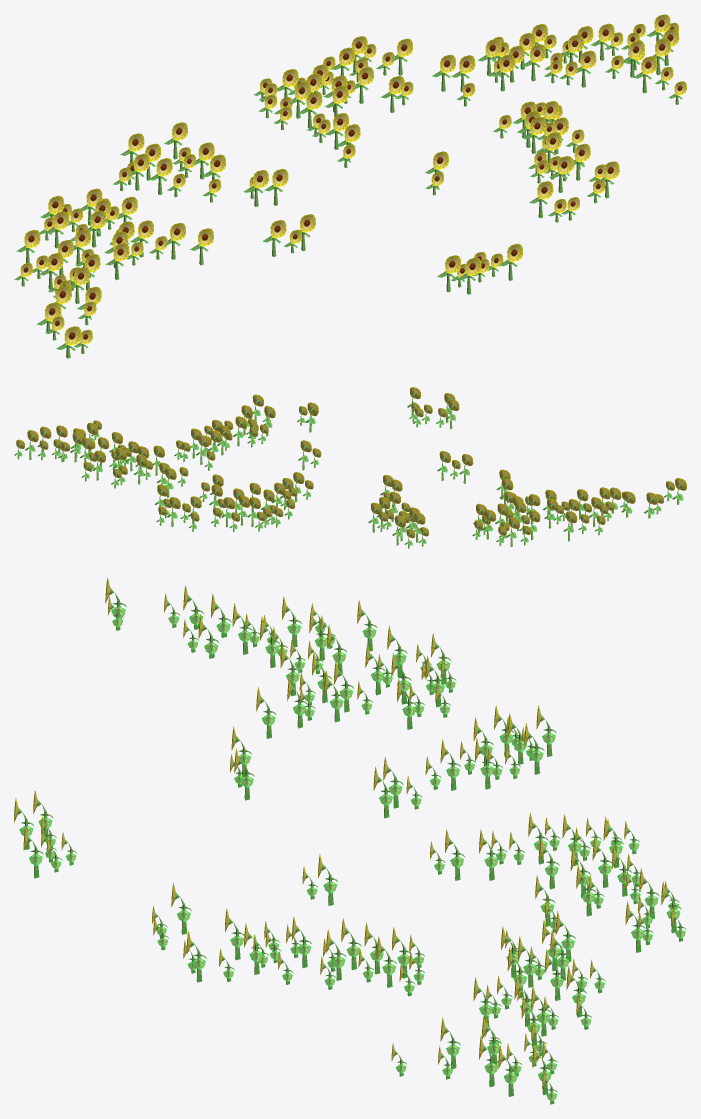
Rendered from pinnasunflower_bake.dae.
3 views of the same model, one above another, from view 1: azimuth 30°, elevation 25°; view 2: azimuth 150°, elevation 25°; view 3: azimuth 270°, elevation 25° (orthographic). The views are drawn at different scales.
Visible parts, largest first — view 1: m0, m0_VC; view 2: m0, m0_VC; view 3: m0, m0_VC.
Part boxes in pixels (x1,y1,x2,y2): m0: [15, 15, 686, 358]; m0_VC: [14, 14, 686, 350]; m0: [14, 388, 685, 548]; m0_VC: [14, 387, 686, 545]; m0: [14, 580, 686, 1104]; m0_VC: [14, 577, 685, 1101].
Bounding box in the file's own units: 8497 × 572 × 4915.
2 materials, 2 textured.
